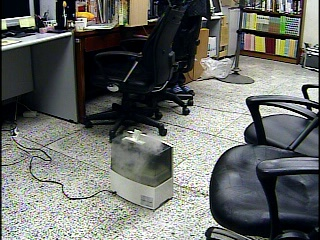smoke: (108, 127, 162, 178)
